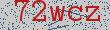2: (31, 1, 48, 24)
7: (10, 1, 30, 26)
c: (68, 1, 85, 28)
w: (49, 1, 67, 26)
z: (85, 2, 103, 26)
